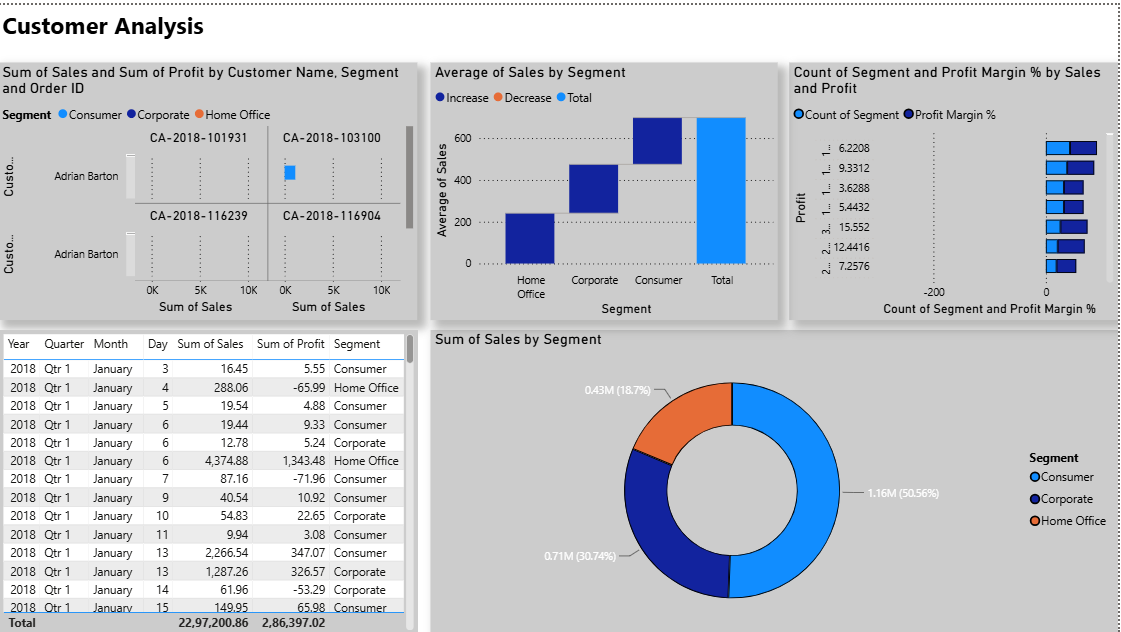

The dashboard page shown, as its layout file describes it:
{"tool":"powerbi","page":{"name":"Page 4","canvas":[1280,720],"ordinal":3},"visuals":[{"type":"barChart","fields":{"Y":["Sum(E-Commerce.Sales)"],"Category":["E-Commerce.Customer Name"],"Series":["E-Commerce.Segment"],"Rows":["E-Commerce.Order ID"]},"box":[12.9,65.7,467.1,294.3],"z":0},{"type":"donutChart","fields":{"Category":["E-Commerce.Segment"],"Y":["Sum(E-Commerce.Sales)"]},"box":[494.3,371.4,764.3,348.6],"z":1000},{"type":"barChart","fields":{"Y":["CountNonNull(E-Commerce.Segment)","measure_.Profit Margin %"],"Category":["E-Commerce.Sales","E-Commerce.Profit"]},"box":[904.3,65.7,375.7,294.3],"z":2000},{"type":"pivotTable","fields":{"Rows":["E-Commerce.Region"],"Columns":["E-Commerce.Segment"],"Values":["Avg(E-Commerce.Sales)"]},"box":[505.7,65.7,371.4,294.3],"z":3000},{"type":"tableEx","fields":{"Values":["E-Commerce.Order Date.Variation.Date Hierarchy.Year","E-Commerce.Order Date.Variation.Date Hierarchy.Quarter","E-Commerce.Order Date.Variation.Date Hierarchy.Month","E-Commerce.Order Date.Variation.Date Hierarchy.Day","Sum(E-Commerce.Sales)","Sum(E-Commerce.Profit)","E-Commerce.Segment"]},"box":[0,371.4,480,348.6],"z":4000},{"type":"textbox","box":[12.9,12.9,300,40],"z":5000}]}

Visuals, with their boxes in screenshot pixels (x1, y1, x2, y2), scaled from the page's 1280x720 canvas onto the 1121x632 screenshot:
barChart - Sum(E-Commerce.Sales) x E-Commerce.Customer Name: (11,58,420,316)
donutChart - E-Commerce.Segment x Sum(E-Commerce.Sales): (433,326,1102,631)
barChart - CountNonNull(E-Commerce.Segment) x measure_.Profit Margin %: (792,58,1120,316)
pivotTable - E-Commerce.Region x E-Commerce.Segment: (443,58,768,316)
tableEx - E-Commerce.Order Date.Variation.Date Hierarchy.Year x E-Commerce.Order Date.Variation.Date Hierarchy.Quarter: (0,326,420,631)
textbox: (11,11,274,46)
